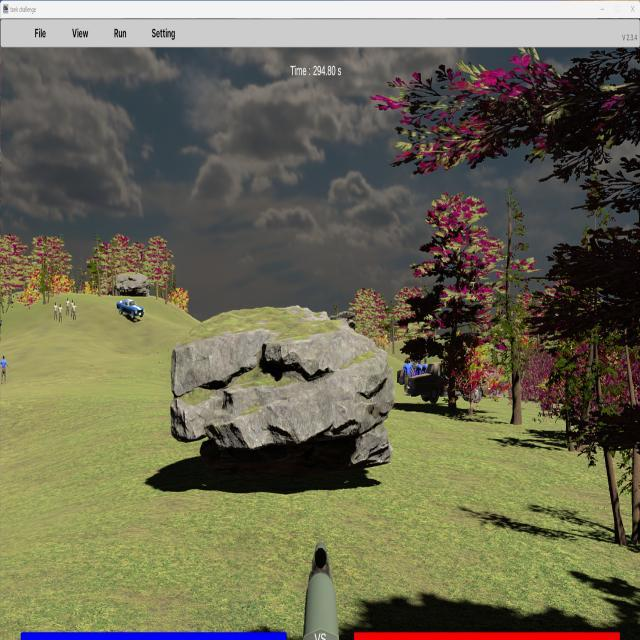car: (116, 299, 145, 321)
